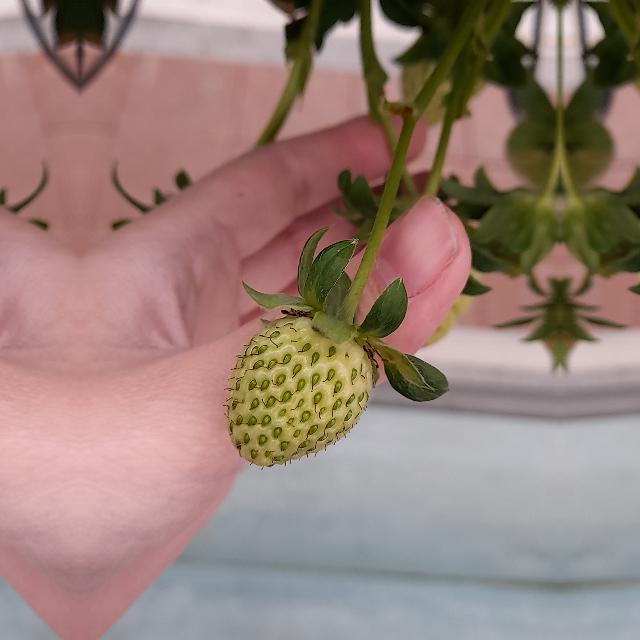Health_25: (227, 316, 371, 466)
